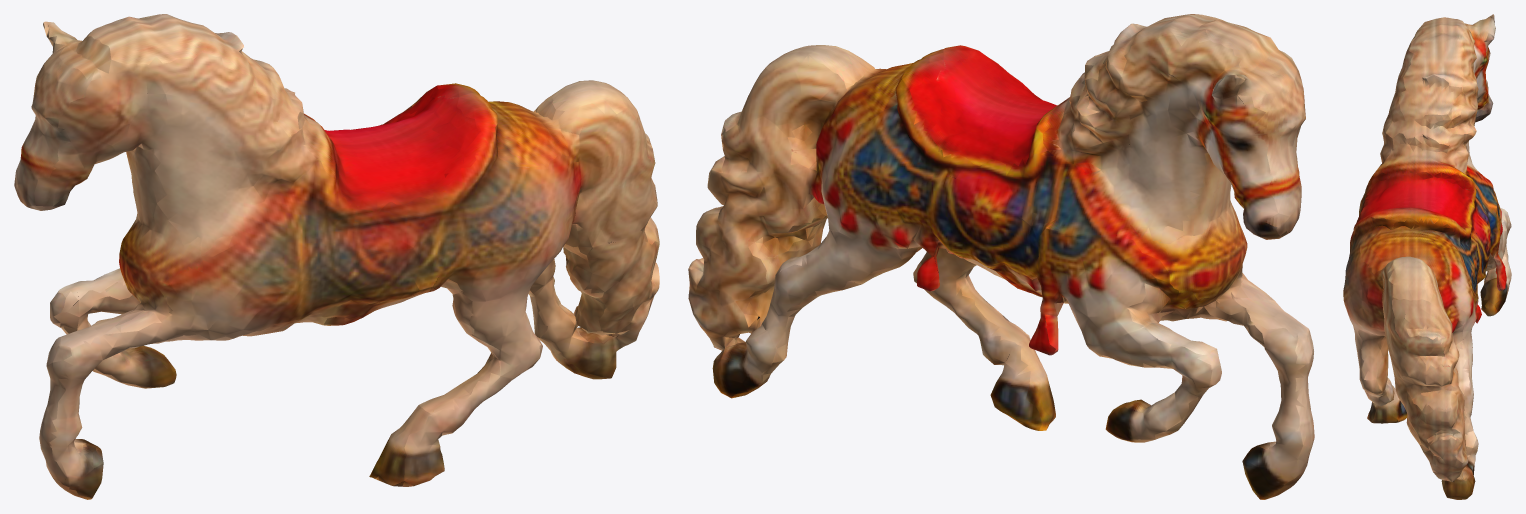
The model's file is horse-comparison.glb.
3 renders of one model, left to right at view 1: azimuth 30°, elevation 25°; view 2: azimuth 150°, elevation 25°; view 3: azimuth 270°, elevation 25°, orthographic. The views are drawn at different scales.
Visible parts, largest first — view 1: world; view 2: world; view 3: world.
Part boxes in pixels (left/top/right/bottom): world: left=14, top=14, right=659, bottom=499; world: left=688, top=14, right=1314, bottom=499; world: left=1343, top=14, right=1511, bottom=499.
Size of the model in its own units: 0.9847 by 0.7325 by 0.346.
1 material, 1 textured.
